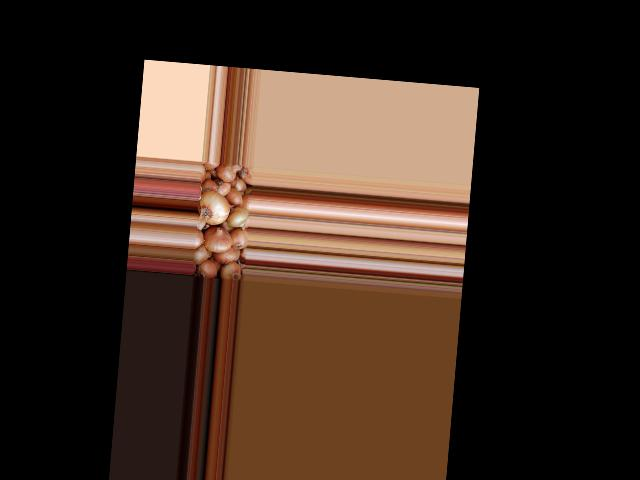onion: (219, 261, 240, 281)
